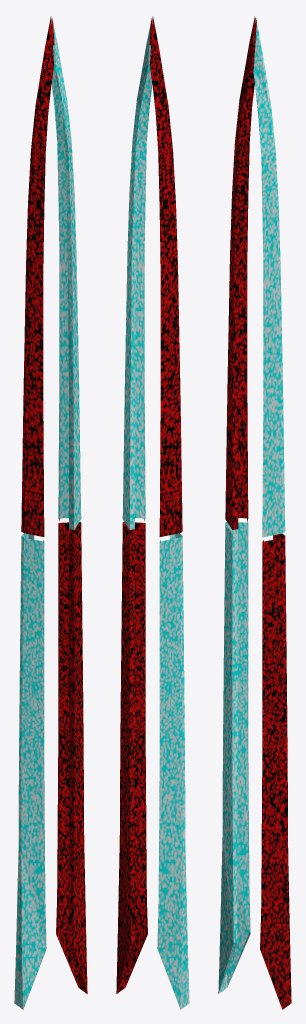
File: SM_ProtoPino_Sword_02_HJS.fbx
3 views of the same model, side by side, from view 1: azimuth 30°, elevation 25°; view 2: azimuth 150°, elevation 25°; view 3: azimuth 330°, elevation 25° (orthographic).
Visible parts, largest first — view 1: SM_ProtoPino_Sword_02_HJS; view 2: SM_ProtoPino_Sword_02_HJS; view 3: SM_ProtoPino_Sword_02_HJS.
Boxes of the visible parts, x1,y1,x2,y2 form: SM_ProtoPino_Sword_02_HJS: (14, 16, 87, 1009); SM_ProtoPino_Sword_02_HJS: (116, 16, 189, 1009); SM_ProtoPino_Sword_02_HJS: (218, 17, 291, 1009).
Size of the model in its own units: 10.91 by 157 by 4.67.
